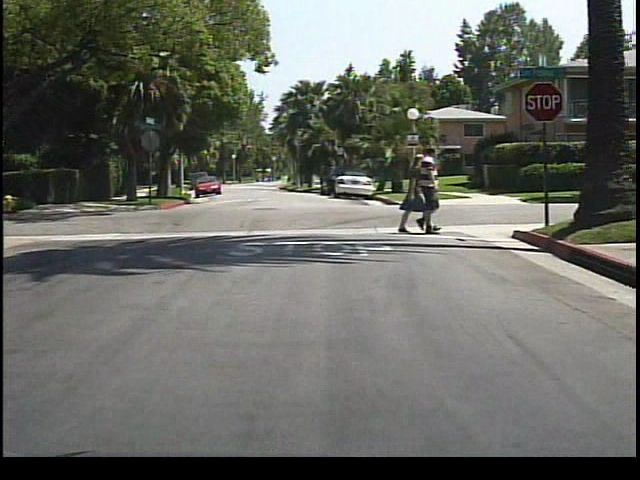person: (417, 146, 451, 236), (395, 151, 425, 240)
